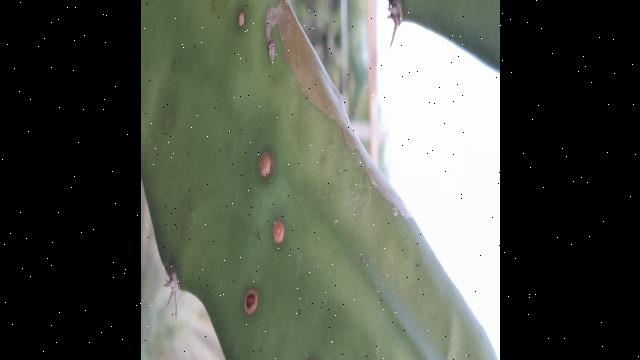stemcanker: (237, 284, 265, 320), (268, 216, 290, 250), (256, 148, 277, 183), (232, 7, 249, 34)
